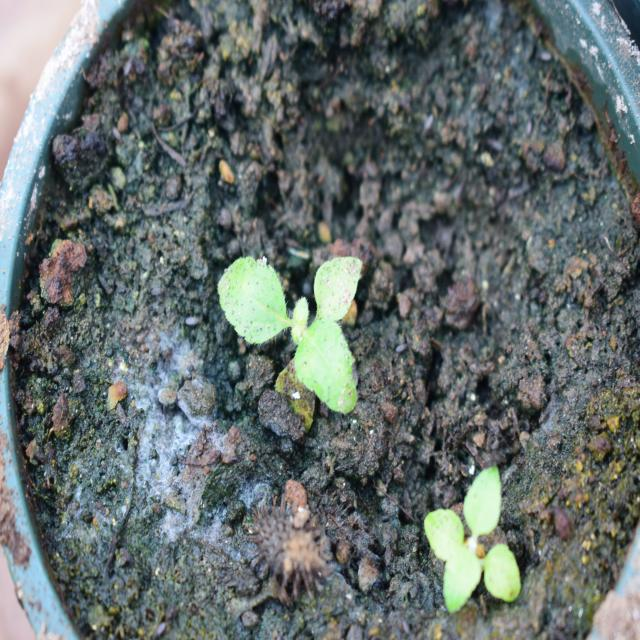billygoat_weed: (215, 252, 381, 424), (418, 452, 525, 629)
